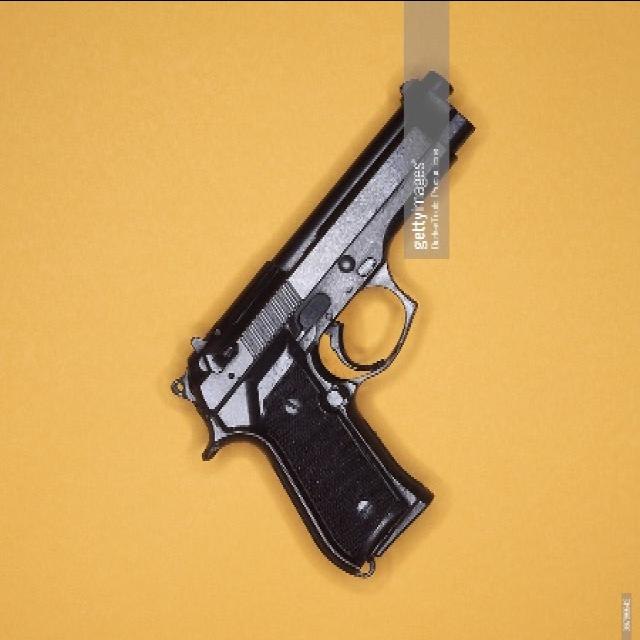handgun: (169, 69, 476, 585)
